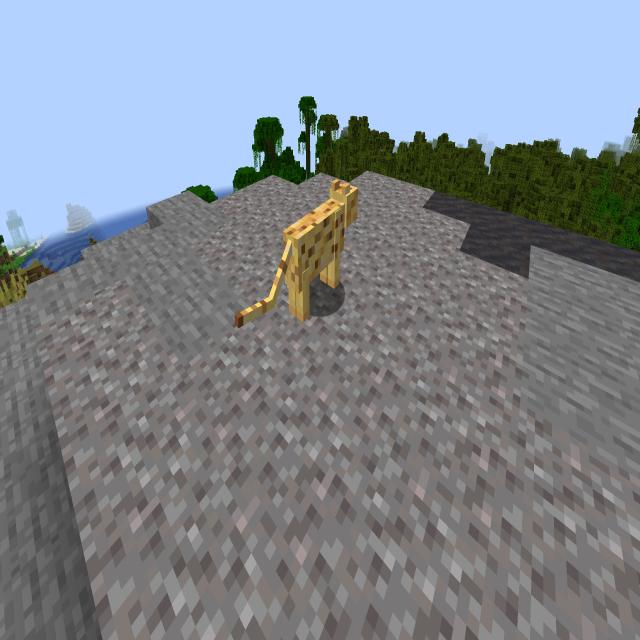Ocelot: (229, 169, 365, 345)
